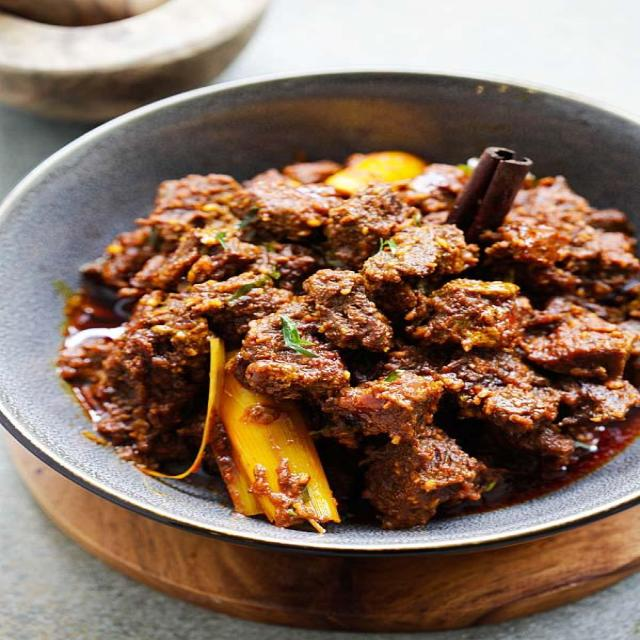Rendang: (29, 149, 640, 520)
